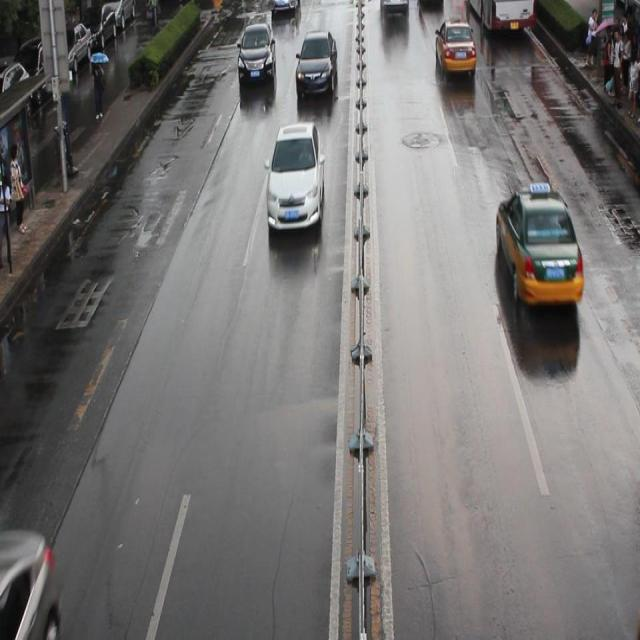car: (495, 185, 583, 303), (1, 525, 61, 640), (265, 122, 324, 230), (294, 29, 337, 98), (237, 23, 276, 84), (434, 19, 476, 73), (269, 1, 297, 17)
van: (464, 1, 535, 30)
